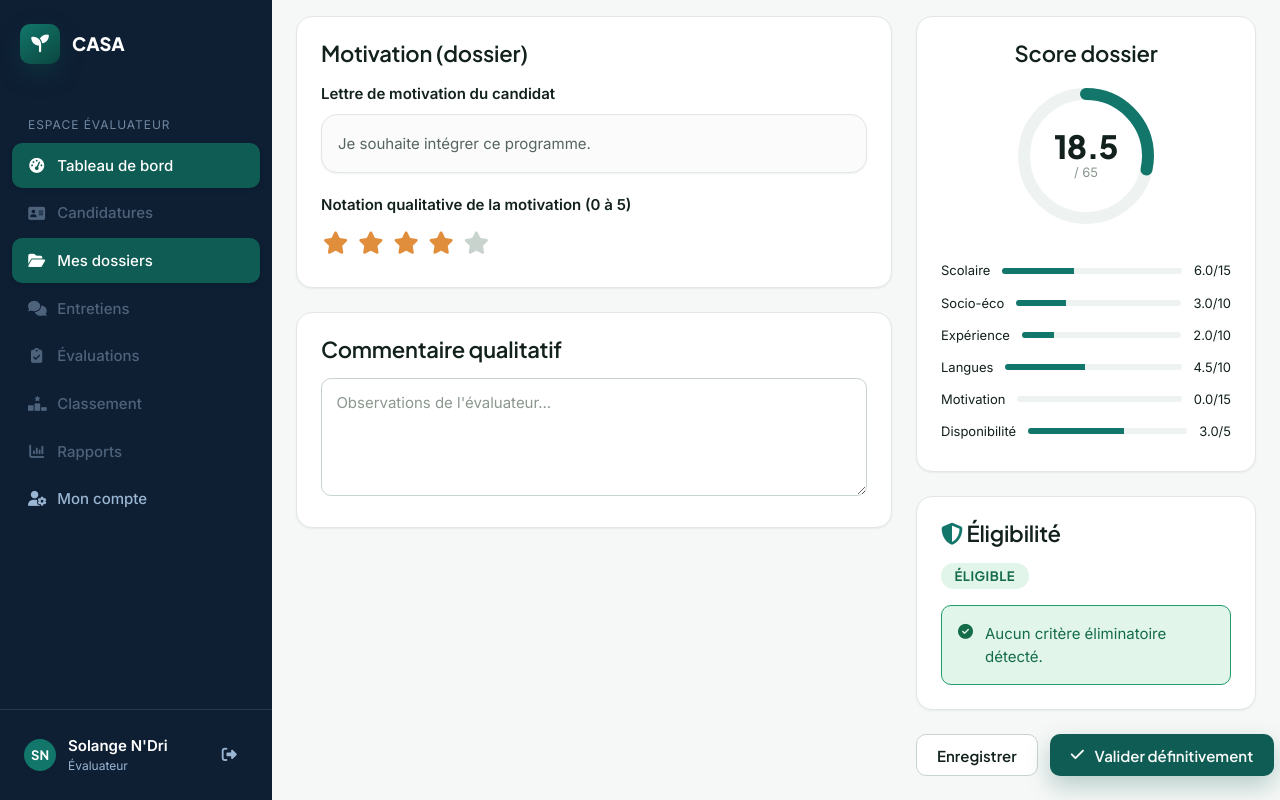
Test: EvaluationDossier — verrouillage visuel RÉEL après validation (ADR-04) › 422 serveur à la validation (précondition rejouée) -> message affiché, écran reste déverrouillé
The image size is (1280, 800).
(page scrolled)
Expected: the text "18.5" is shown, [1054,130,1118,162]
What coordinates should you click on to do the following:
click the button "Valider définitivement"
I would click on:
 (1162, 755)
Its box is [1050,734,1274,776].
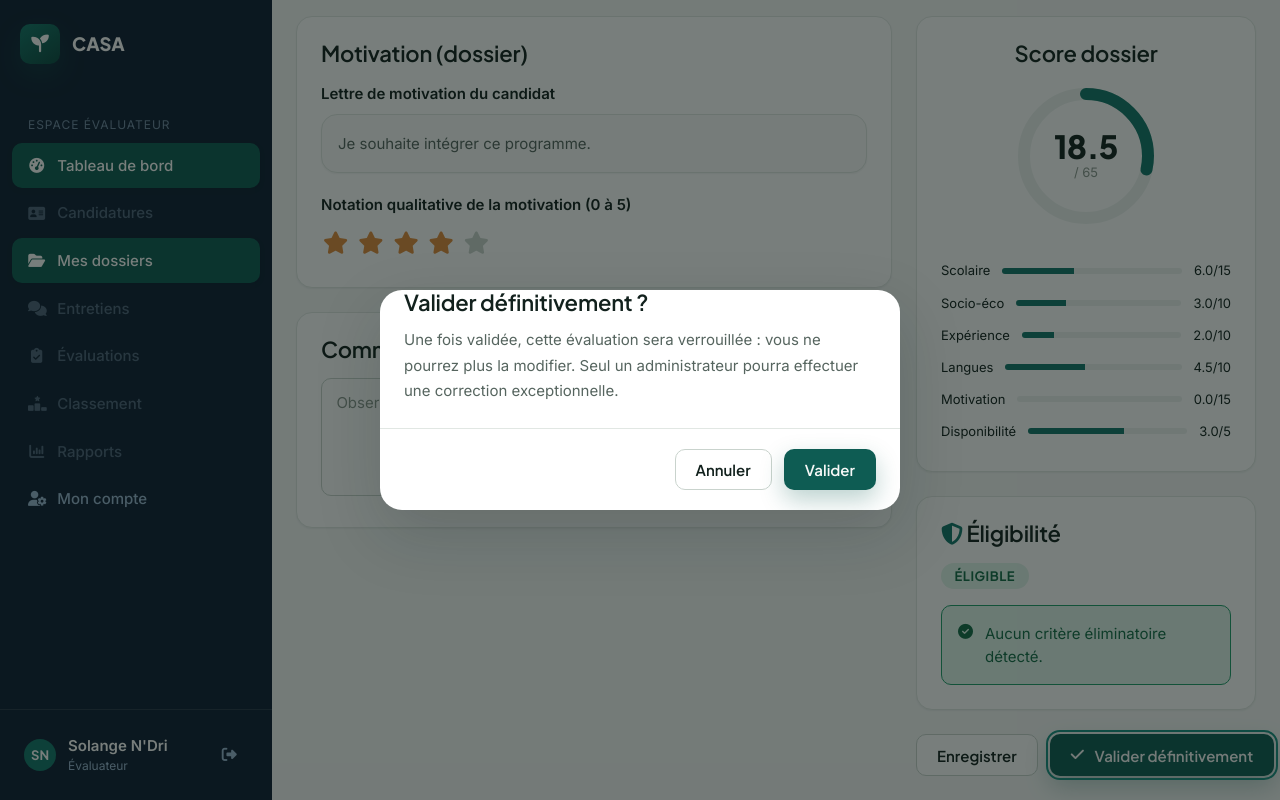
What coordinates should you click on to do the following:
click the button "Valider"
I would click on:
 (830, 469)
Its box is [784,449,876,490].
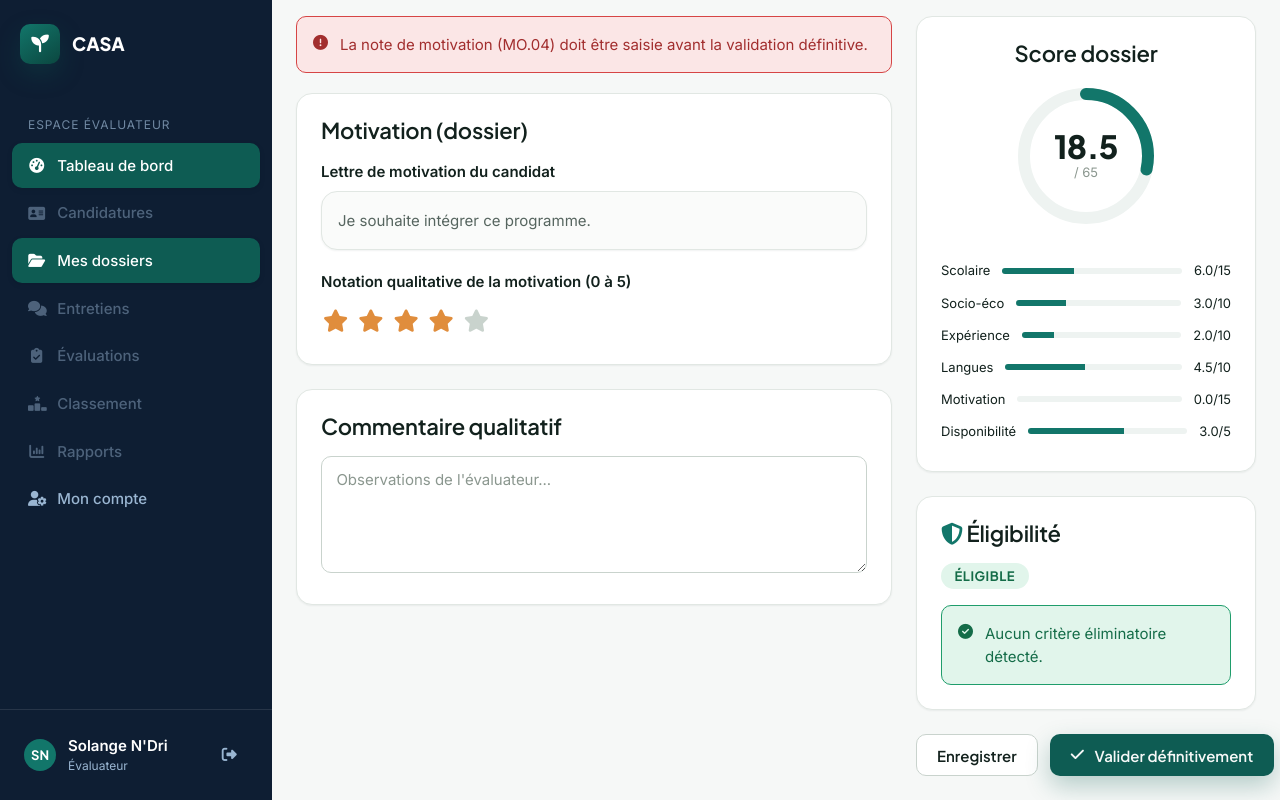
Expected: the button "Valider définitivement" is shown, [1050,734,1274,776]
Now the text "La note de motivation (MO.04) doit être saisie" is shown, box [340,35,868,54]
